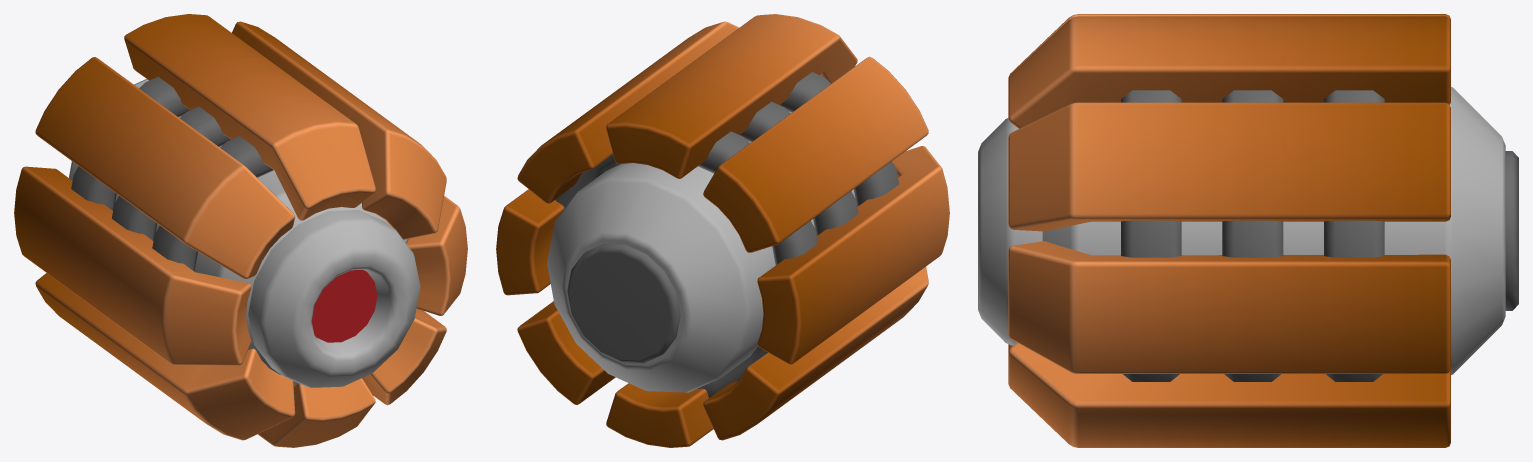
The model's file is cyllinder_003.fbx.
The picture shows the model from 3 angles, left to right: view 1: azimuth 30°, elevation 25°; view 2: azimuth 150°, elevation 25°; view 3: azimuth 270°, elevation 25°; orthographic projection. The views are drawn at different scales.
Parts seen in each view (by area): view 1: cyllinder_003; view 2: cyllinder_003; view 3: cyllinder_003.
Part boxes in pixels (x1,y1,x2,y2): cyllinder_003: (14, 14, 467, 447); cyllinder_003: (496, 14, 949, 447); cyllinder_003: (978, 14, 1518, 447).
Bounding box in the file's own units: 800 × 980 × 800.
